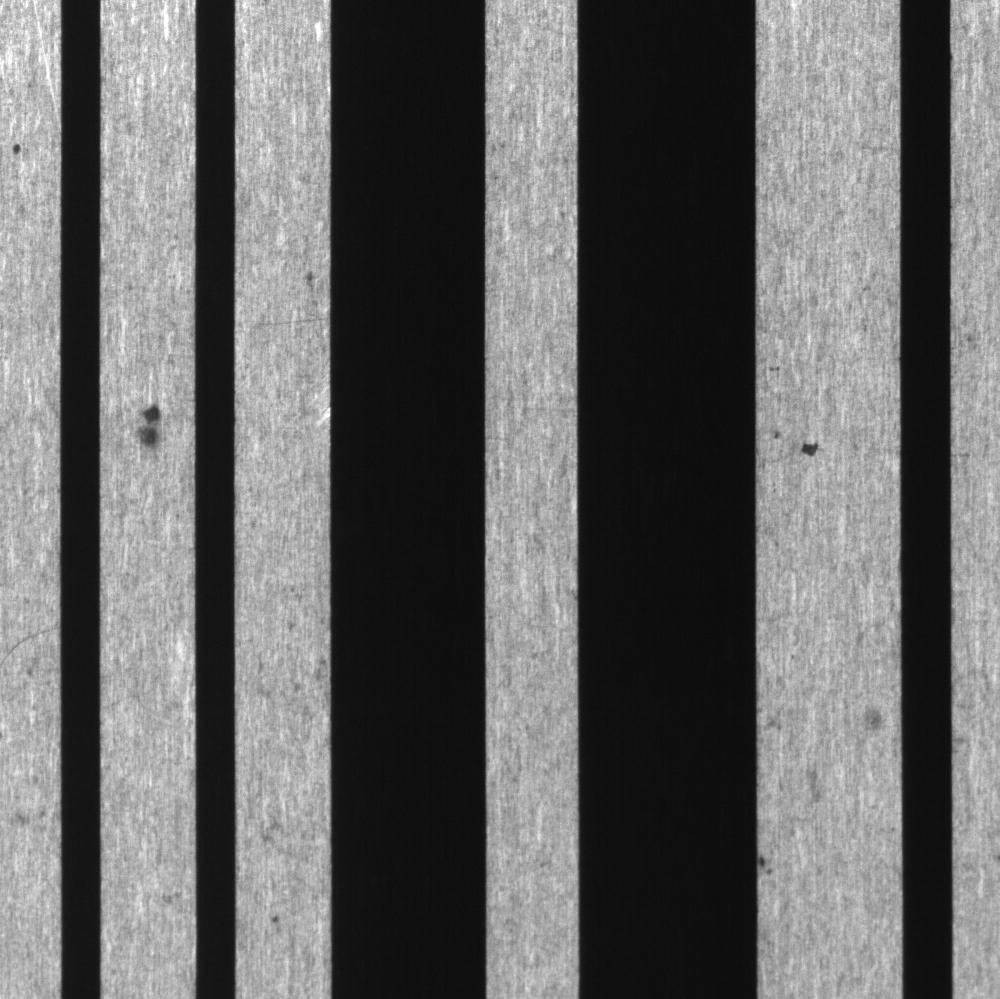Etching: (127, 399, 174, 456), (769, 421, 822, 465), (756, 834, 789, 898), (257, 896, 293, 939)
Pinhole: (4, 133, 38, 166)
Scar: (1, 613, 58, 685), (238, 304, 329, 334)
